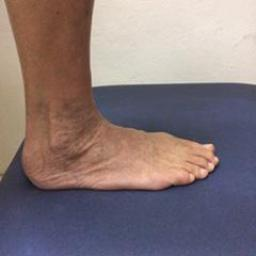Lateral View -Right Foot-: (16, 77, 221, 210)
